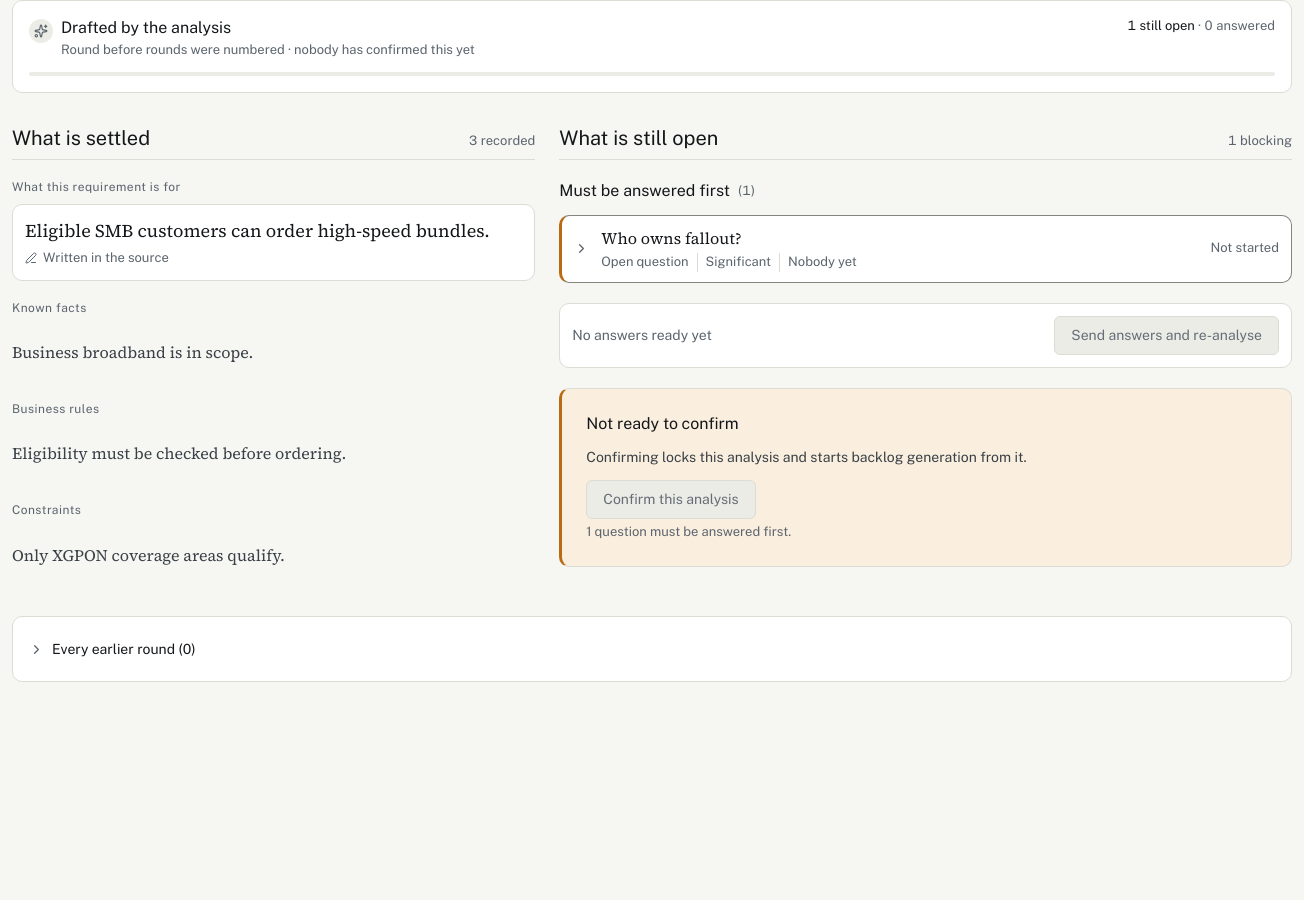
Test: AnalysisPanel › keeps a question's working material closed until its row is opened
Expected: the text "Who owns fallout?" is shown, [601,227,742,249]
Expected: the text "Open question" is shown, [601,253,688,272]
What coordinates should you click on to do the following:
click the heading that starts with "Who owns fallout?"
I would click on:
 (671, 238)
Its box is [562,216,1291,282].
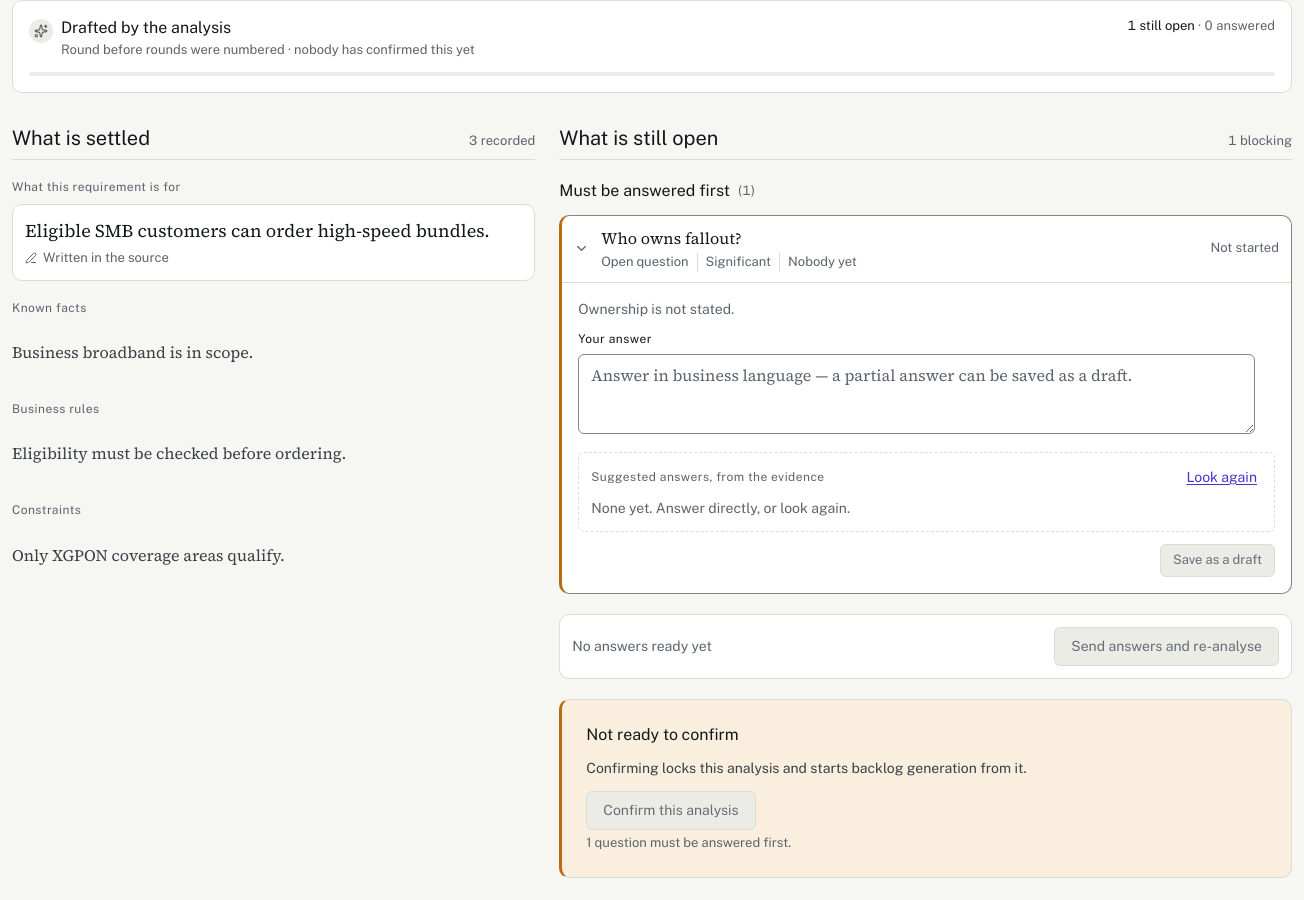
Expected: the text box labelled "Your answer" is shown, [578,354,1255,434]
